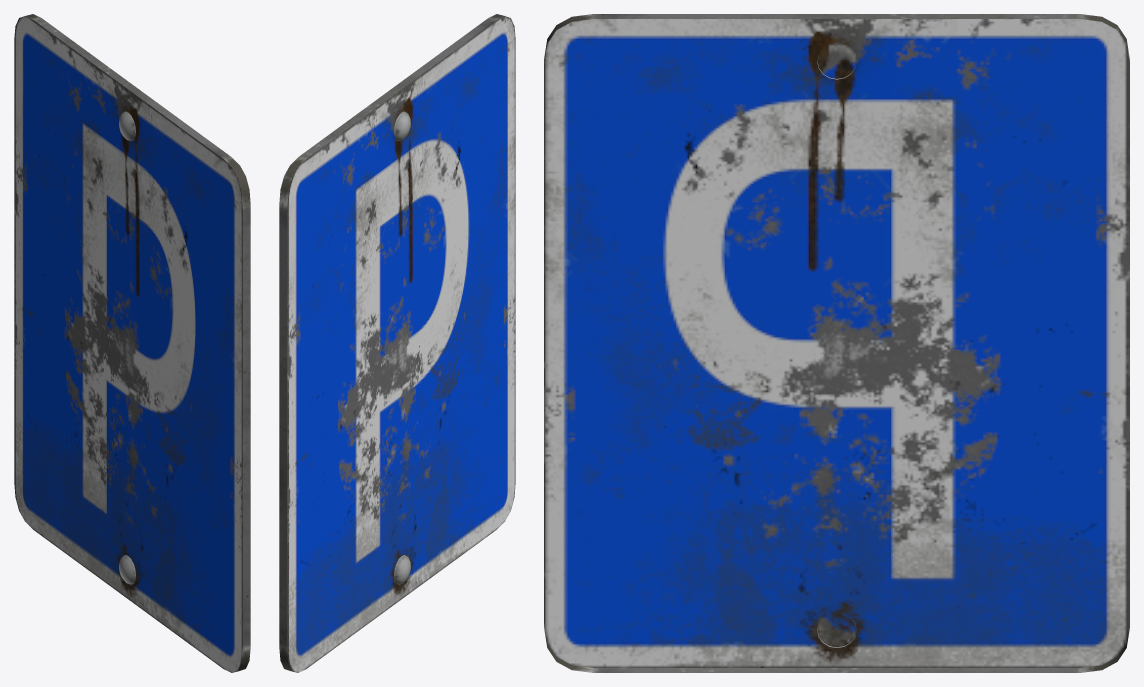
The model's file is Prop_TrafficSign_5.fbx.
3 views of the same model, side by side, from view 1: azimuth 30°, elevation 25°; view 2: azimuth 150°, elevation 25°; view 3: azimuth 270°, elevation 25° (orthographic). The views are drawn at different scales.
Parts seen in each view (by area): view 1: Prop_TrafficSign_5; view 2: Prop_TrafficSign_5; view 3: Prop_TrafficSign_5.
Part boxes in pixels (x1=…): Prop_TrafficSign_5: x1=14, y1=14, x2=250, y2=672; Prop_TrafficSign_5: x1=279, y1=14, x2=515, y2=672; Prop_TrafficSign_5: x1=544, y1=14, x2=1129, y2=672.
Bounding box in the file's own units: 0.9198 × 31.71 × 25.74.
